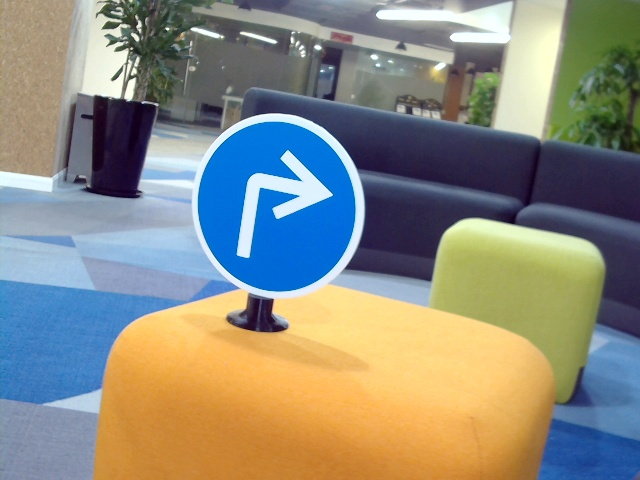turn_right: (234, 143, 326, 267)
